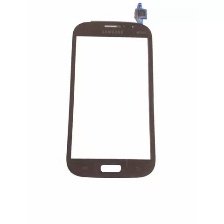phone: (63, 14, 157, 182)
